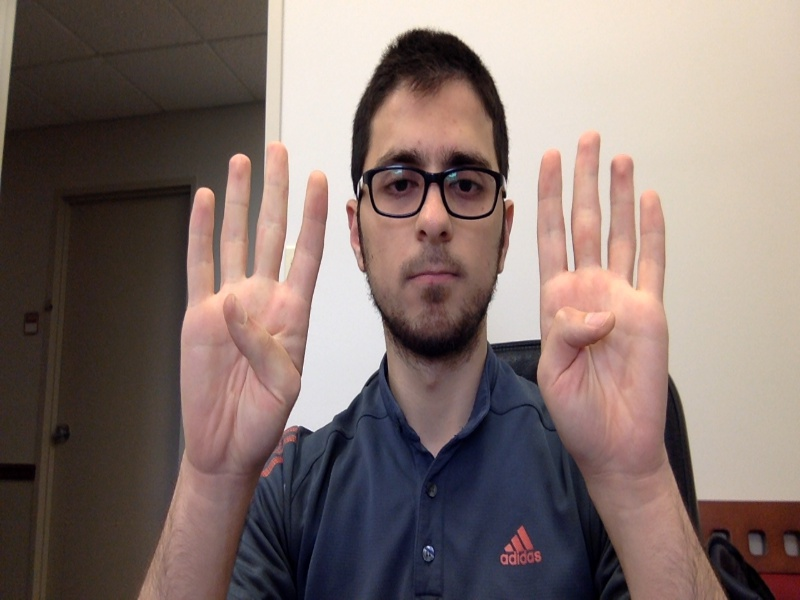4-hand: (178, 141, 329, 474), (538, 129, 667, 456)
